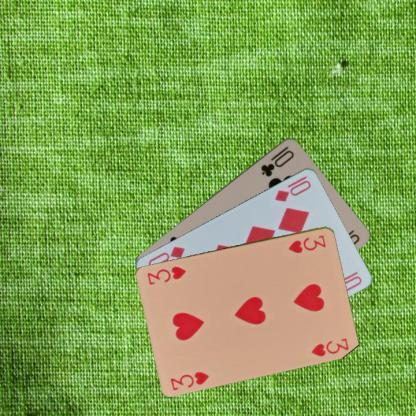10c: (258, 143, 296, 178)
10d: (272, 173, 313, 203)
3h: (168, 368, 210, 392), (286, 232, 328, 254)
